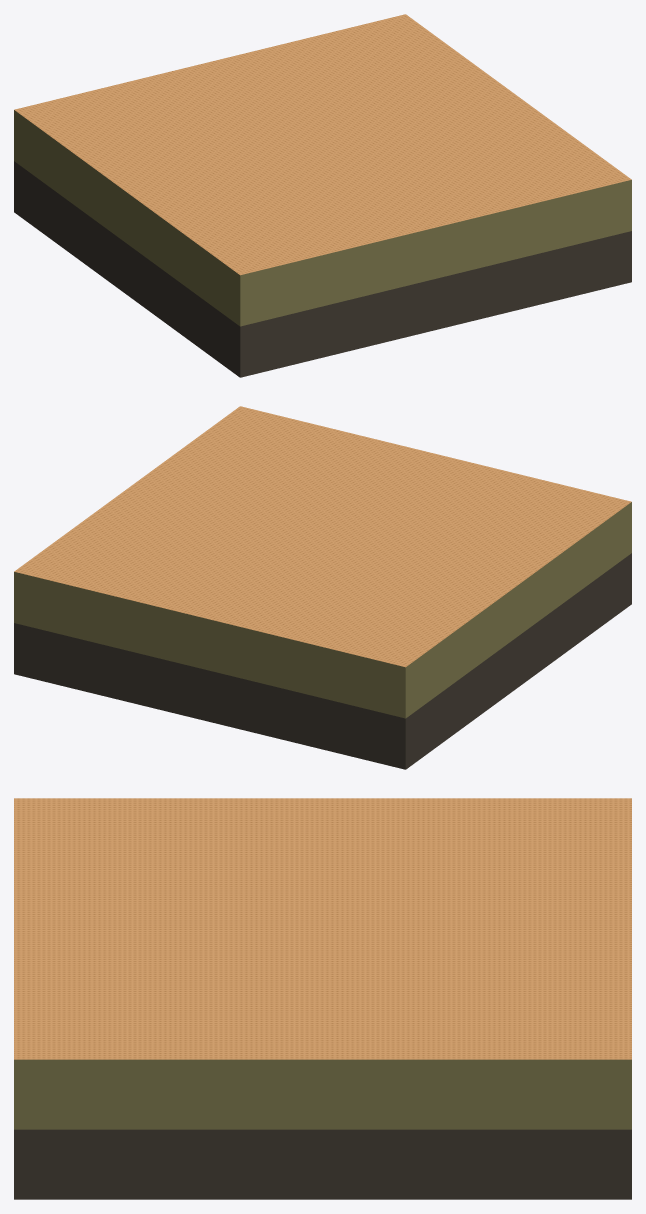
The model's file is tile1_1 full.fbx.
3 views of the same model, one above another, from view 1: azimuth 30°, elevation 25°; view 2: azimuth 150°, elevation 25°; view 3: azimuth 270°, elevation 25° (orthographic). The views are drawn at different scales.
Parts seen in each view (by area): view 1: Cube.001; view 2: Cube.001; view 3: Cube.001.
Boxes of the visible parts, box(x1,y1,x2,y2) form: Cube.001: box(14, 14, 631, 377); Cube.001: box(14, 406, 631, 769); Cube.001: box(14, 798, 631, 1199).
Size of the model in its own units: 200 by 50 by 200.
1 material, 1 textured.
